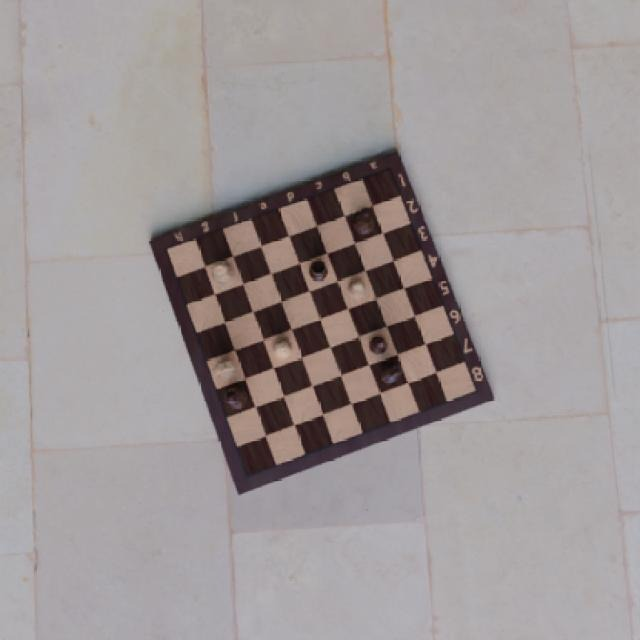black-king: (222, 386, 250, 412)
black-knight: (377, 358, 405, 385)
black-pawn: (367, 336, 389, 356)
black-queen: (351, 207, 376, 237)
black-rook: (306, 257, 329, 283)
white-bishop: (343, 276, 368, 300)
white-king: (270, 336, 294, 362)
white-knight: (209, 358, 239, 382)
white-queen: (210, 257, 237, 287)
